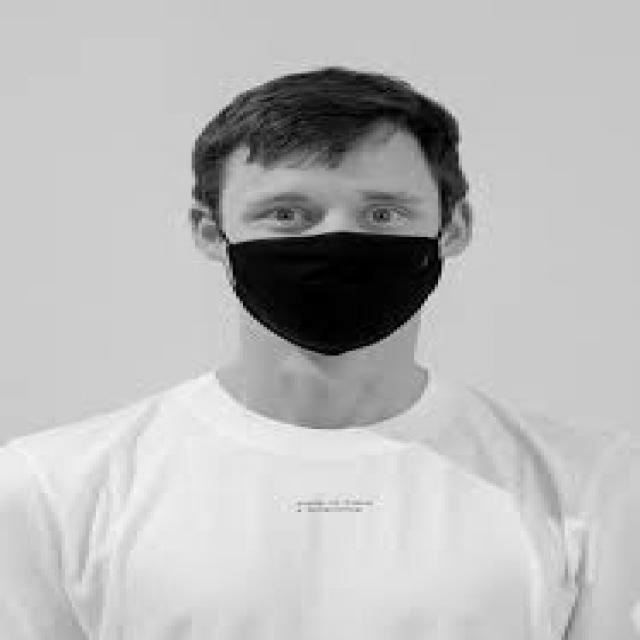fake: (218, 209, 447, 362)
real: (222, 135, 449, 362)
